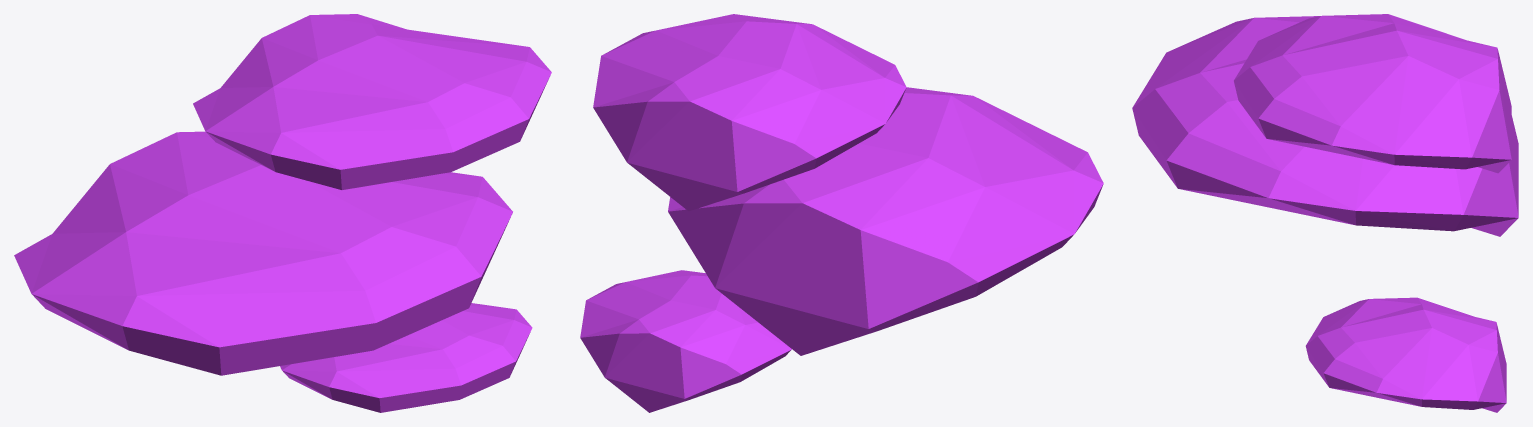
The model's file is Mushroom_03.FBX.
3 views of the same model, side by side, from view 1: azimuth 30°, elevation 25°; view 2: azimuth 150°, elevation 25°; view 3: azimuth 270°, elevation 25° (orthographic). The views are drawn at different scales.
Parts seen in each view (by area): view 1: Mushroom_03; view 2: Mushroom_03; view 3: Mushroom_03.
Boxes of the visible parts, x1,y1,x2,y2 form: Mushroom_03: [14, 14, 551, 412]; Mushroom_03: [580, 14, 1103, 412]; Mushroom_03: [1132, 14, 1518, 412].
Bounding box in the file's own units: 18.49 × 12.96 × 13.2.
